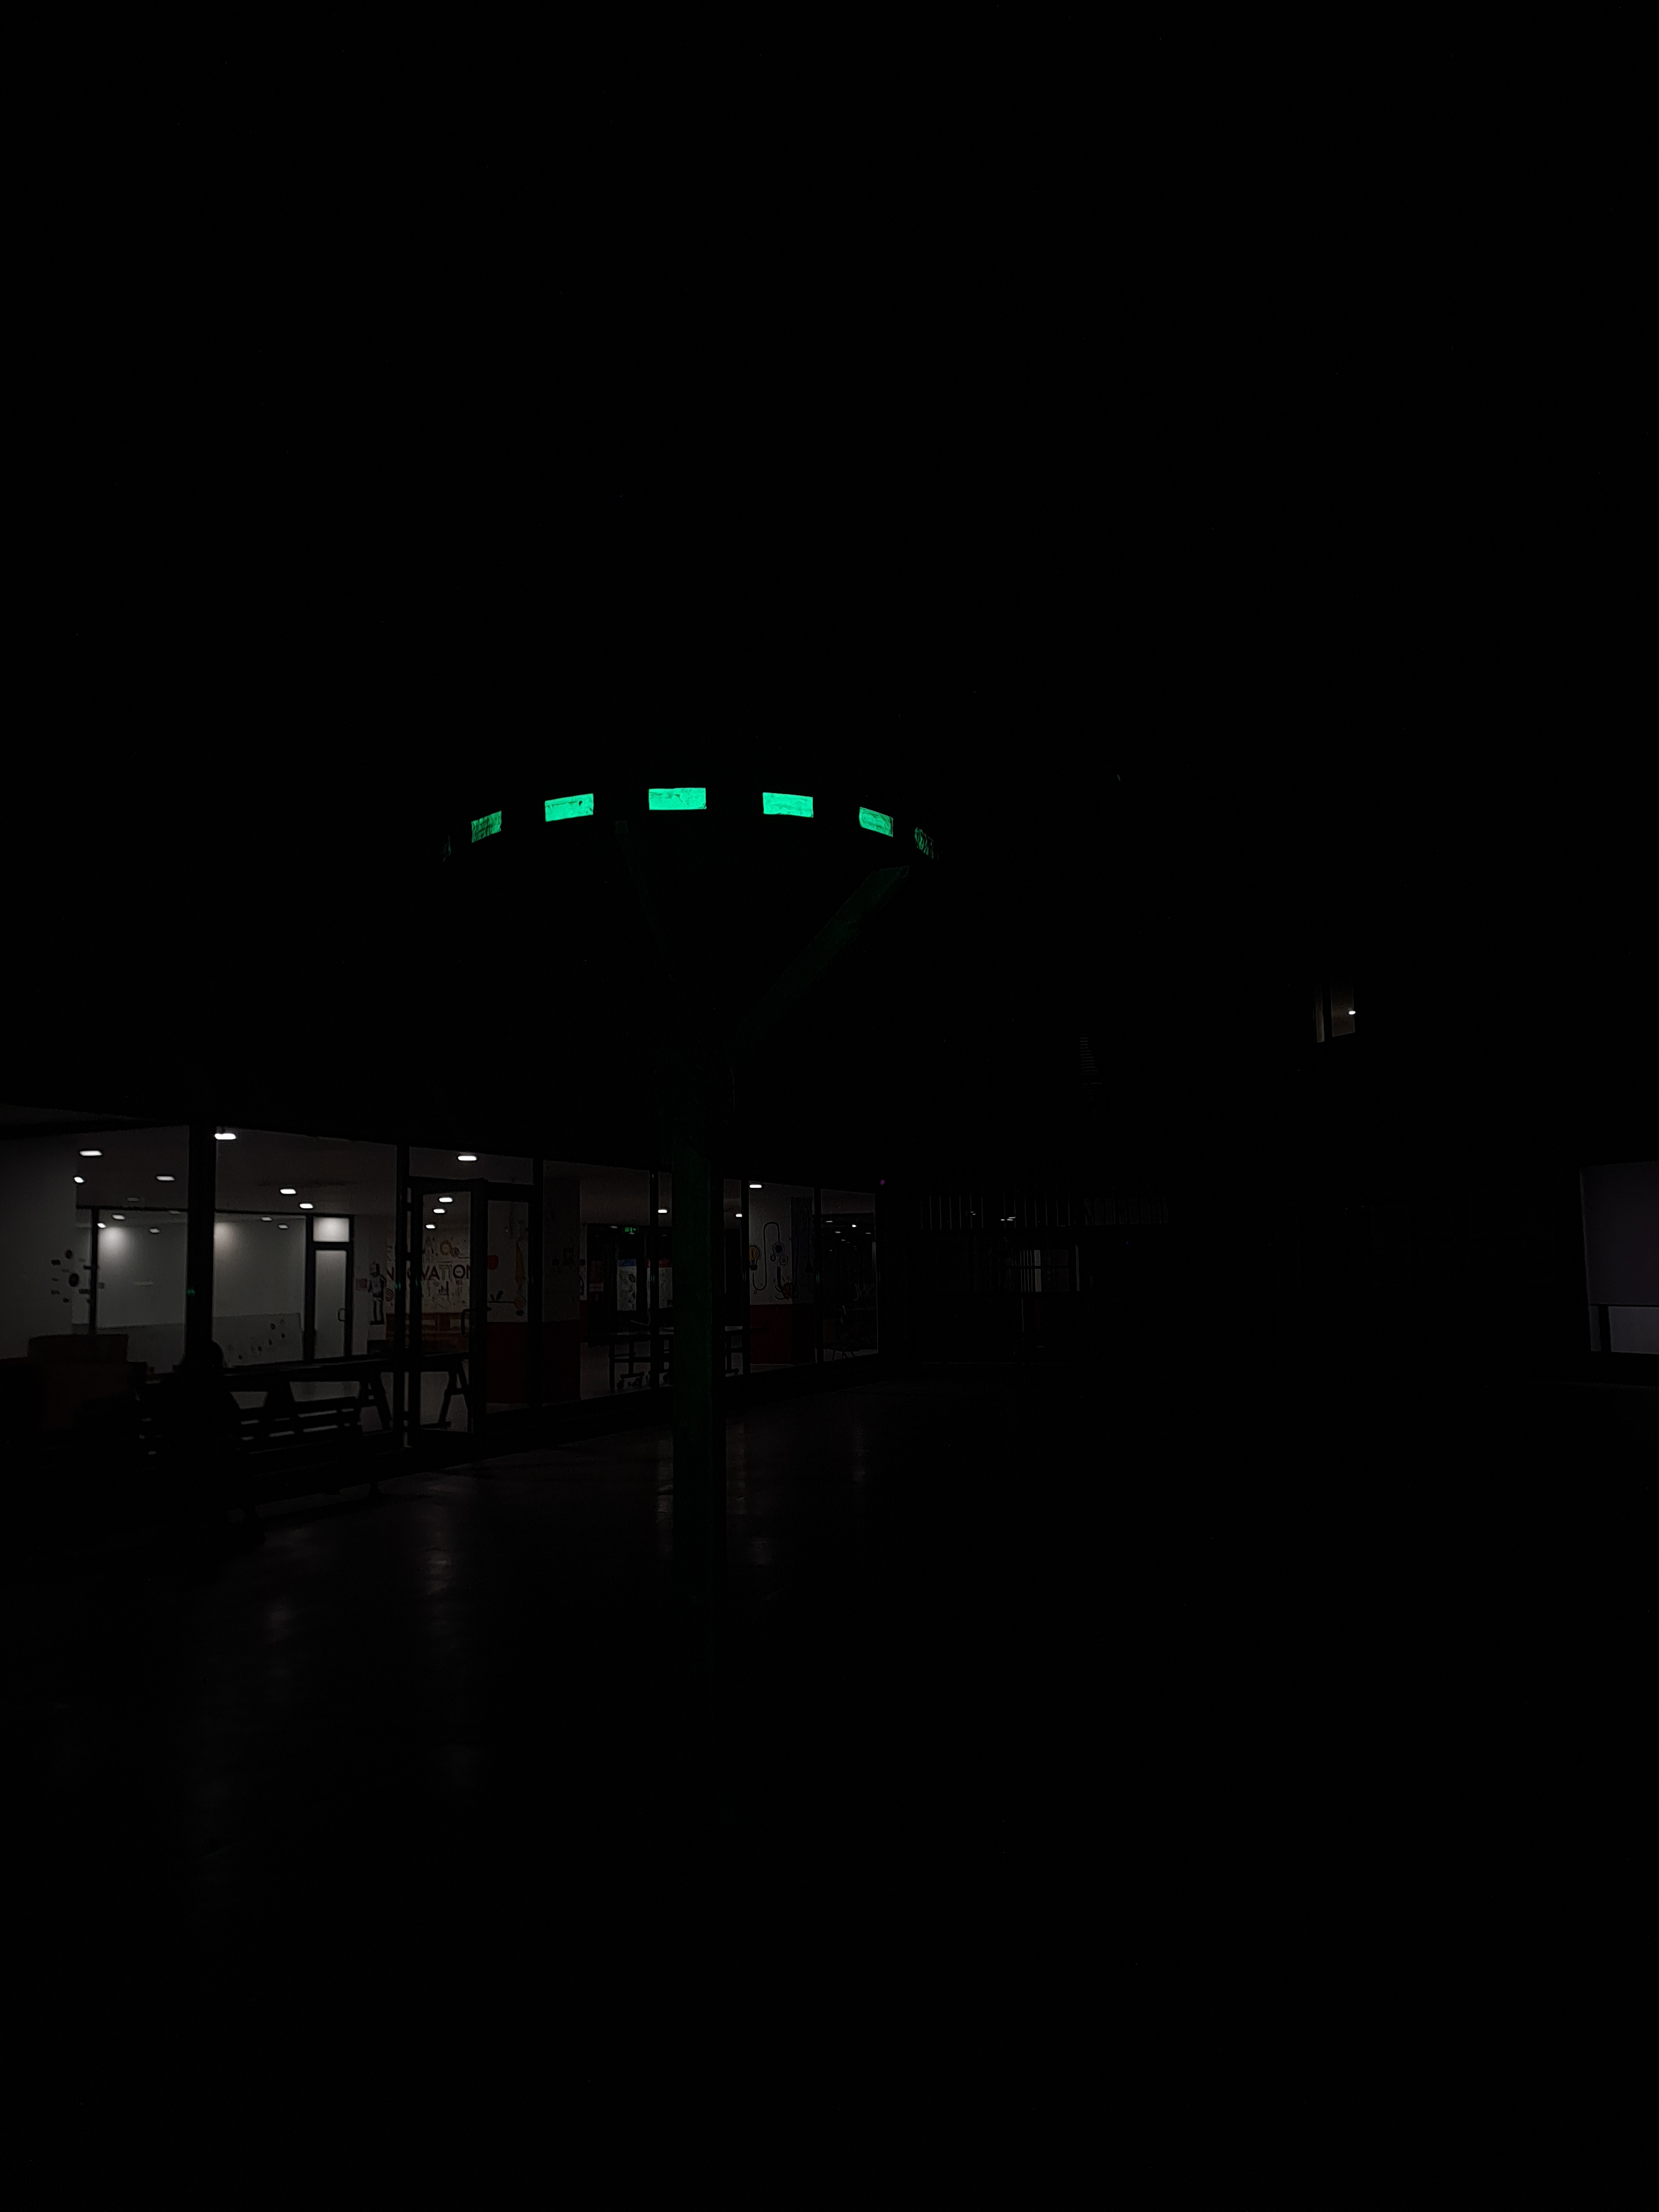hoop: (465, 784, 901, 859)
